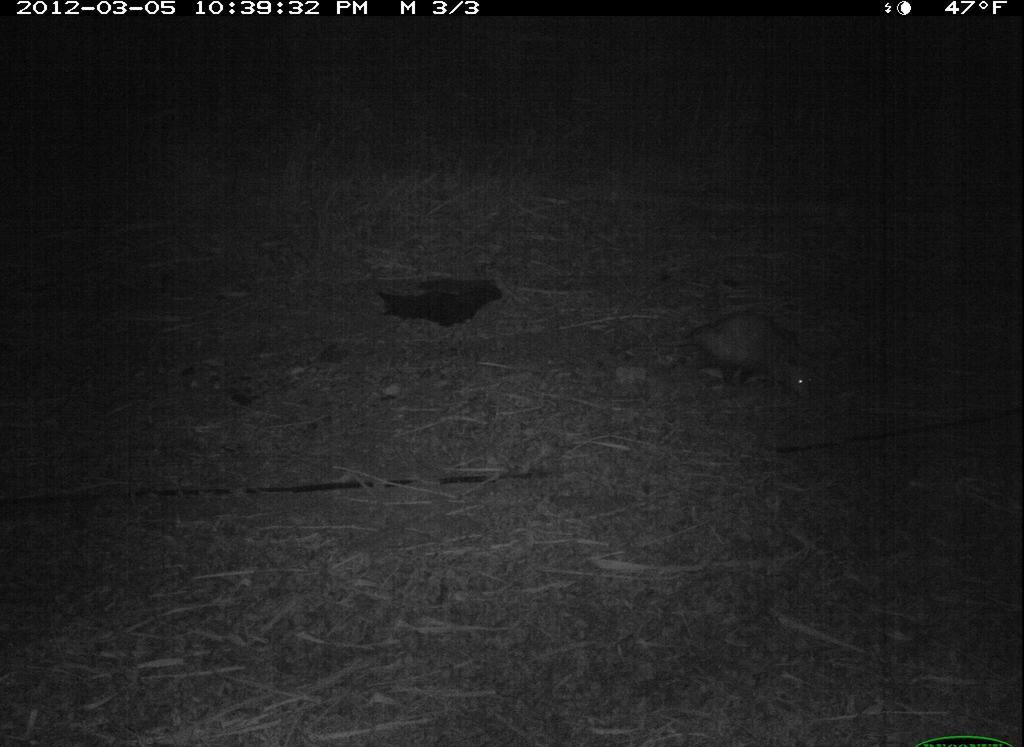opossum: (653, 306, 827, 406)
